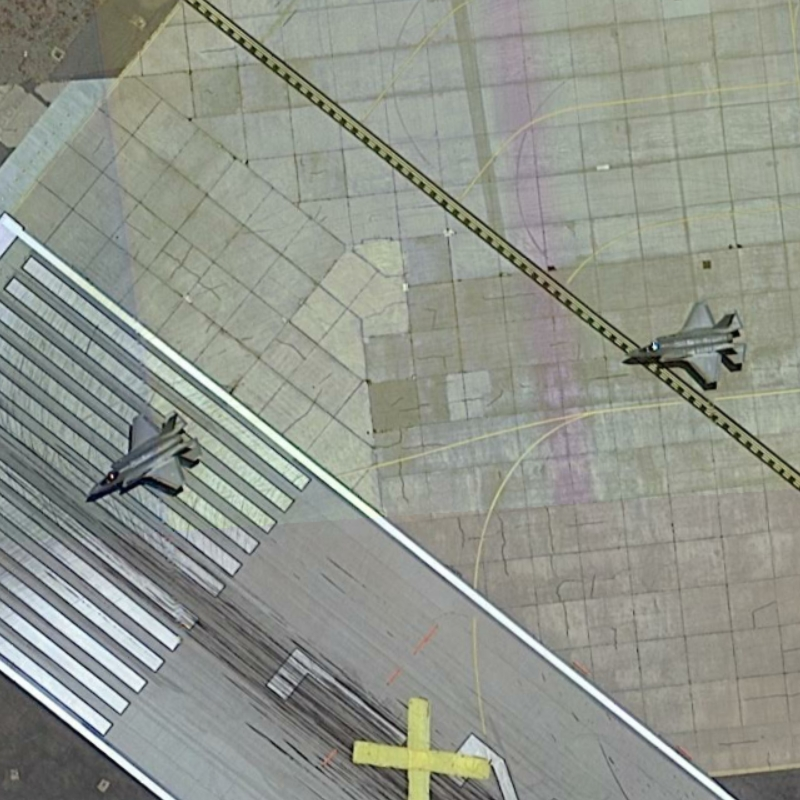A15: (612, 293, 751, 389), (74, 405, 207, 505)
